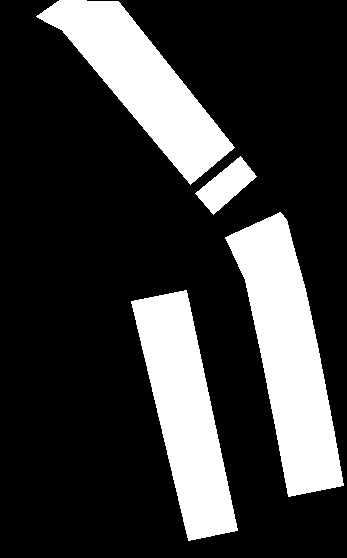parkingspot: (36, 0, 234, 184), (225, 212, 343, 496), (131, 290, 237, 540), (195, 156, 256, 214)
